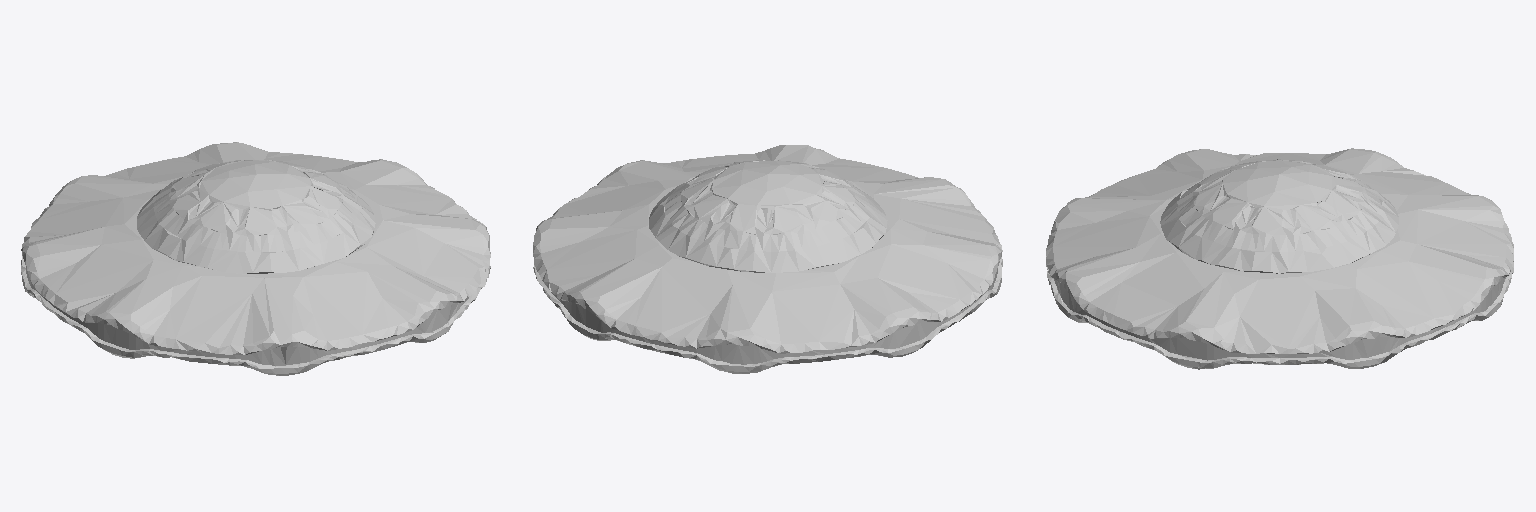
File: frame_012.obj
3 renders of one model, left to right at view 1: azimuth 30°, elevation 25°; view 2: azimuth 150°, elevation 25°; view 3: azimuth 270°, elevation 25°, orthographic.
Parts seen in each view (by area): view 1: 13884_UFO_Saucer_v1_l2; view 2: 13884_UFO_Saucer_v1_l2; view 3: 13884_UFO_Saucer_v1_l2.
Part boxes in pixels (x1,y1,x2,y2): 13884_UFO_Saucer_v1_l2: (21,142,490,375); 13884_UFO_Saucer_v1_l2: (533,145,1002,373); 13884_UFO_Saucer_v1_l2: (1046,148,1513,369).
Bounding box in the file's own units: 12.69 × 4.88 × 12.7.